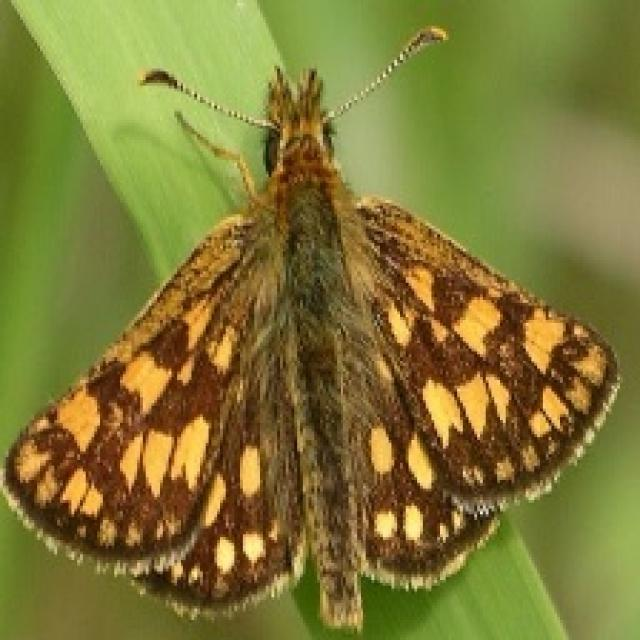butterfly: (0, 20, 620, 631)
